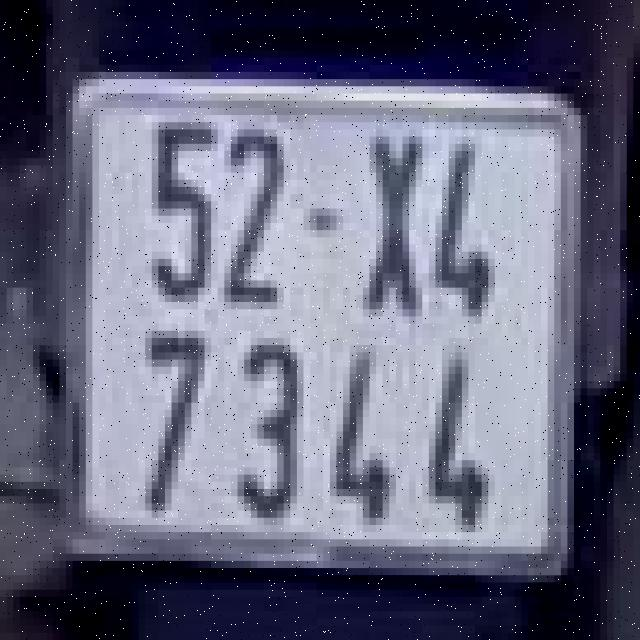2: (224, 101, 297, 309)
3: (234, 334, 314, 528)
4: (416, 349, 502, 543), (326, 334, 406, 536), (429, 133, 508, 334)
5: (138, 108, 224, 309)
7: (126, 320, 224, 521)
X: (350, 115, 429, 324)
